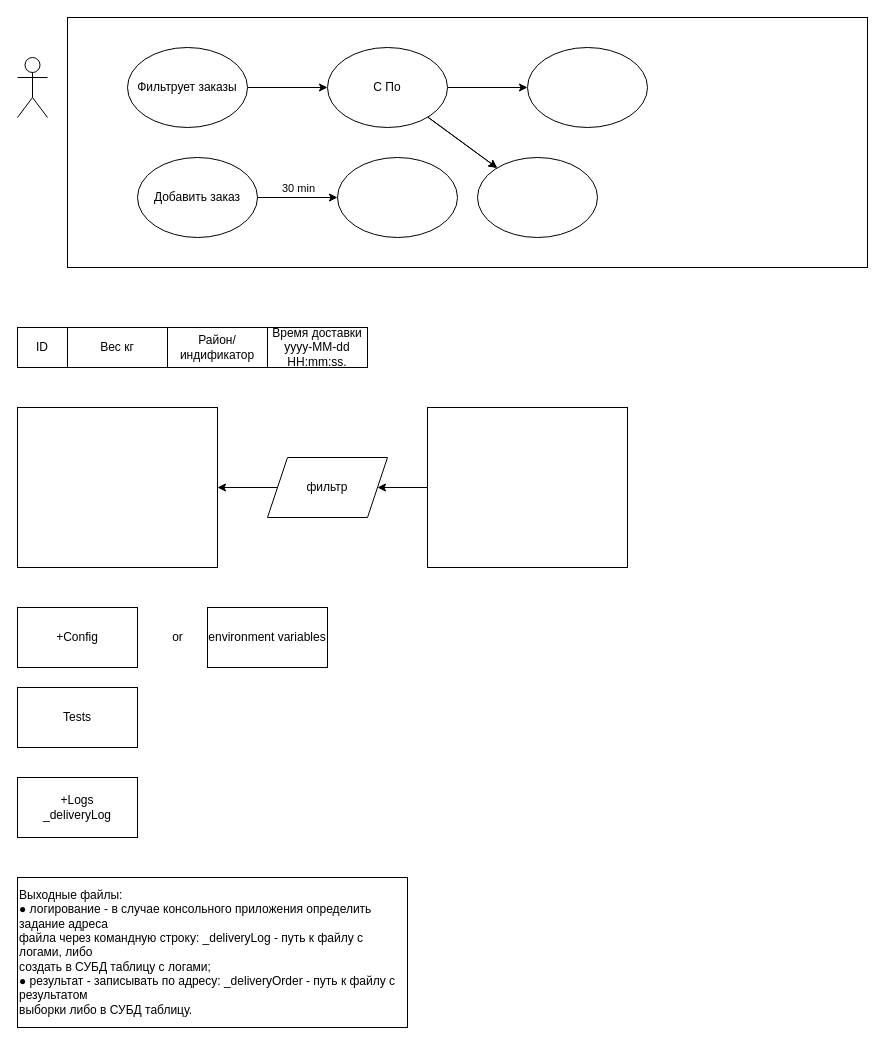
Image size: 885x1045. Some labels were removed from this diagram. The shapes that lost their labels are listed below. From the top down, each one's centre as x and y in pixels, then its label:
the point at 32,87: Actor
the point at 587,87: Время обращения _firstDeliveryDateTime
the point at 397,197: Фильтр заказов на даставку в конкретный район
the point at 537,197: Кол. обращений по городам _cityDistrict,
the point at 117,487: IP IP IP IP IP IP IP IP IP IP
the point at 527,487: Журнал доступа yyyy-MM-dd HH:mm:ss.
